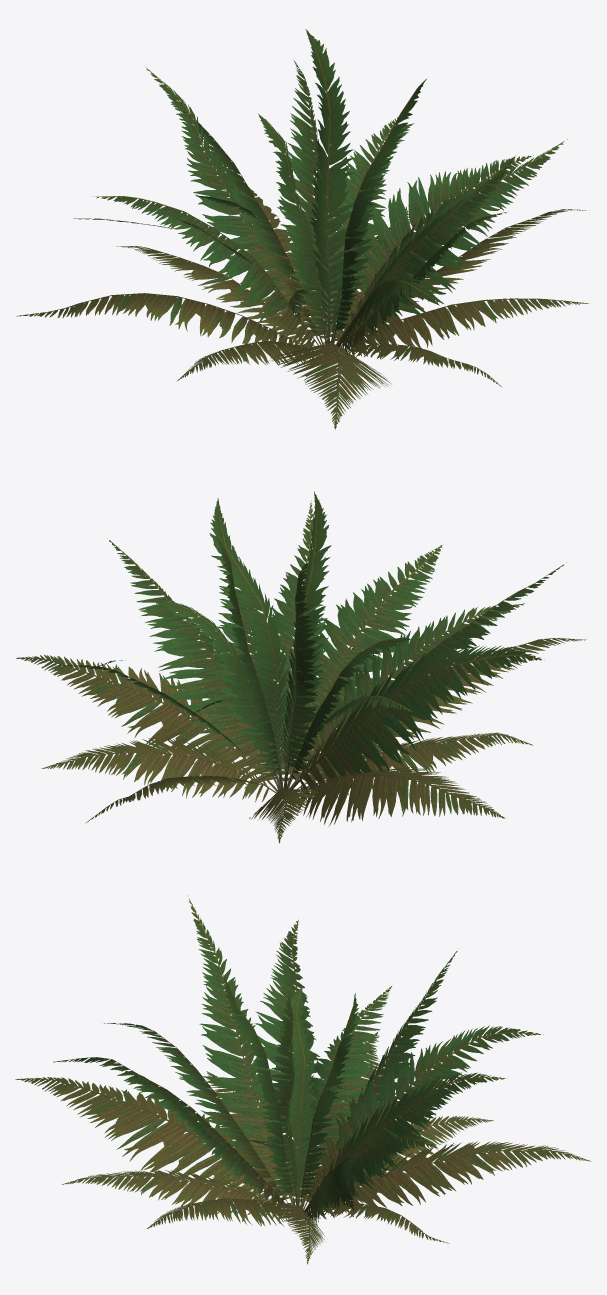
File: Plant - Alien Fern1-BSbFD_HX.glb
3 views of the same model, one above another, from view 1: azimuth 30°, elevation 25°; view 2: azimuth 150°, elevation 25°; view 3: azimuth 270°, elevation 25° (orthographic). The views are drawn at different scales.
Parts seen in each view (by area): view 1: Fern_1_L0(Clone); view 2: Fern_1_L0(Clone); view 3: Fern_1_L0(Clone).
Boxes of the visible parts, x1,y1,x2,y2 form: Fern_1_L0(Clone): (16, 29, 589, 429); Fern_1_L0(Clone): (16, 491, 586, 843); Fern_1_L0(Clone): (15, 895, 591, 1264).
Size of the model in its own units: 3.5 by 2.02 by 3.62.
1 material, 1 textured.
